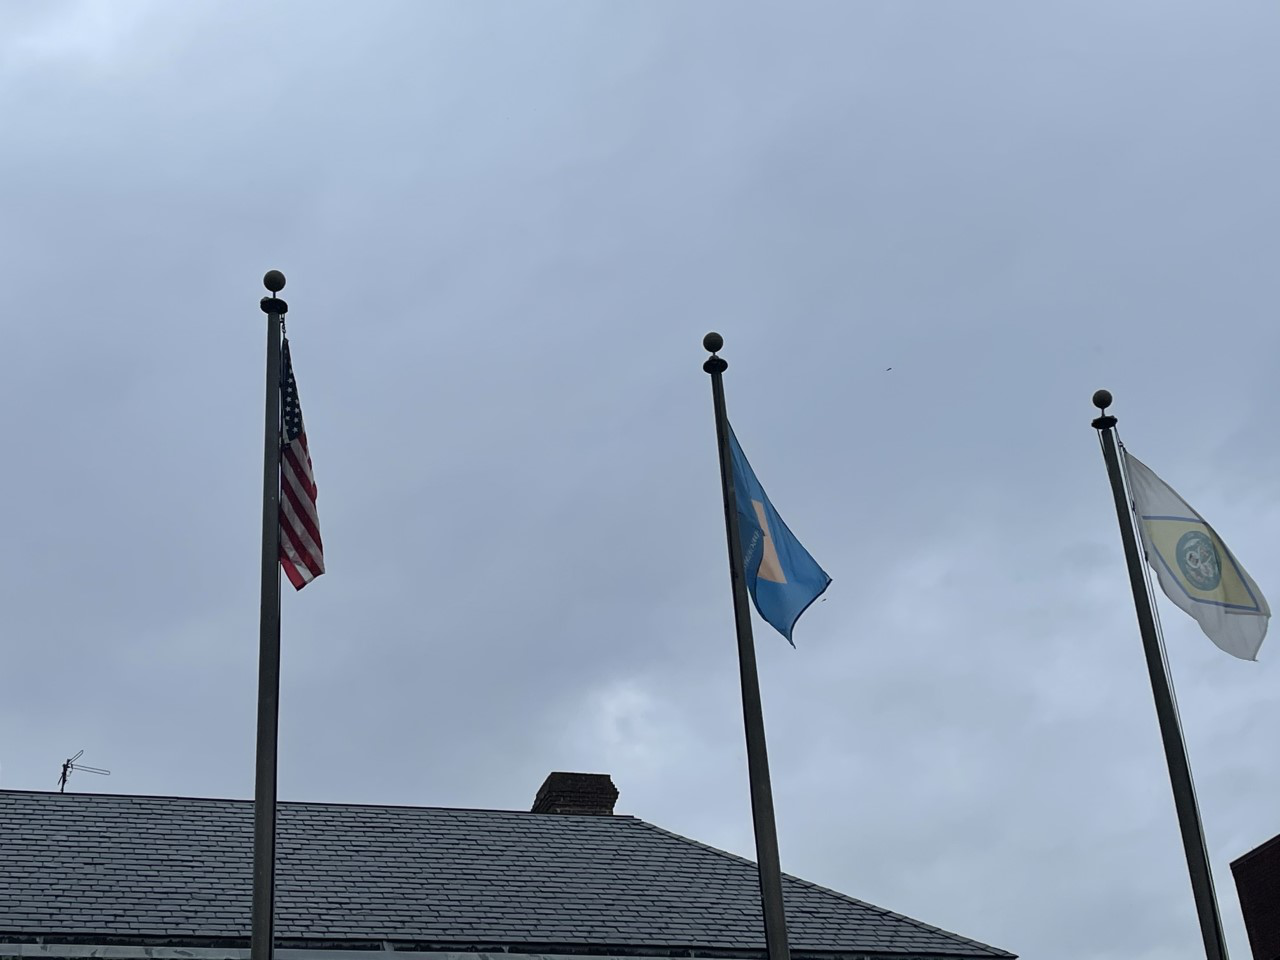America flag: (270, 310, 331, 593)
Delaware flag: (723, 399, 842, 646)
